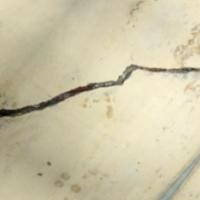crack: (0, 55, 199, 147)
